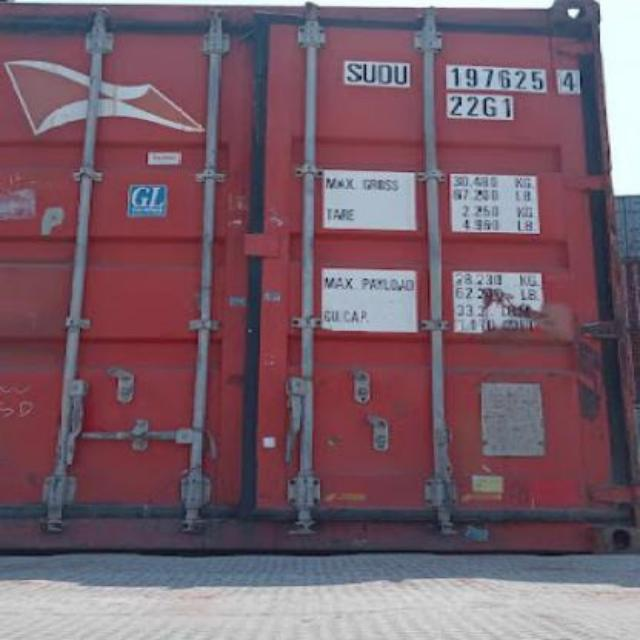1: (446, 60, 462, 86)
2: (512, 62, 528, 92)
4: (558, 66, 582, 92)
5: (526, 62, 546, 94)
6: (496, 60, 512, 90)
7: (481, 61, 494, 87)
9: (464, 60, 476, 88)
D: (378, 51, 394, 91)
S: (342, 55, 362, 87)
U: (360, 53, 378, 89), (392, 58, 408, 86)
